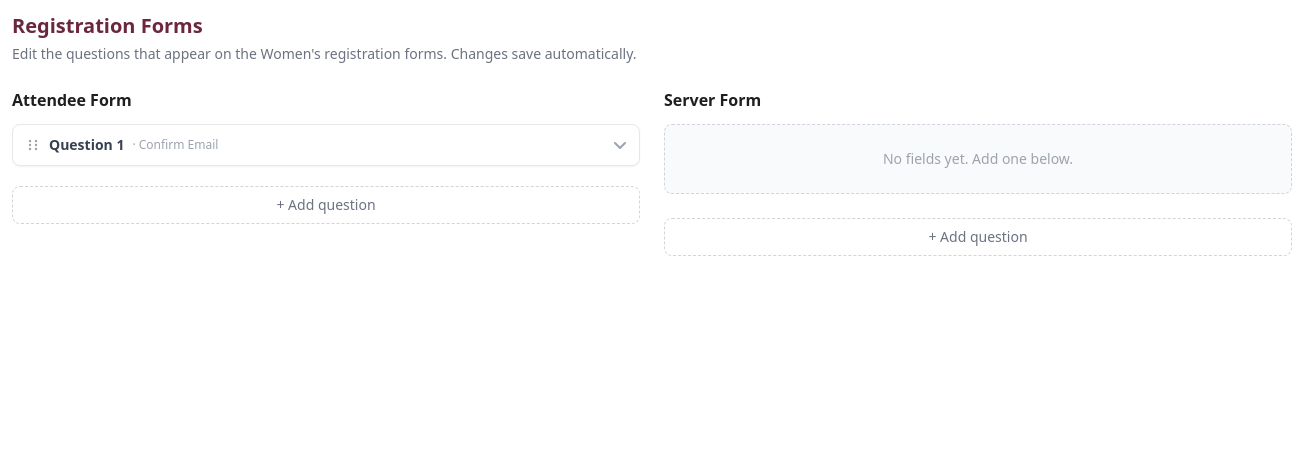
Test: FormsEditor page › shows an email_confirm note for that field when expanded
Expected: the text "Question 1" is shown, [49,135,124,155]
Click the button with aria-label "question 1 expand" at (87, 144), box [25,135,627,154]
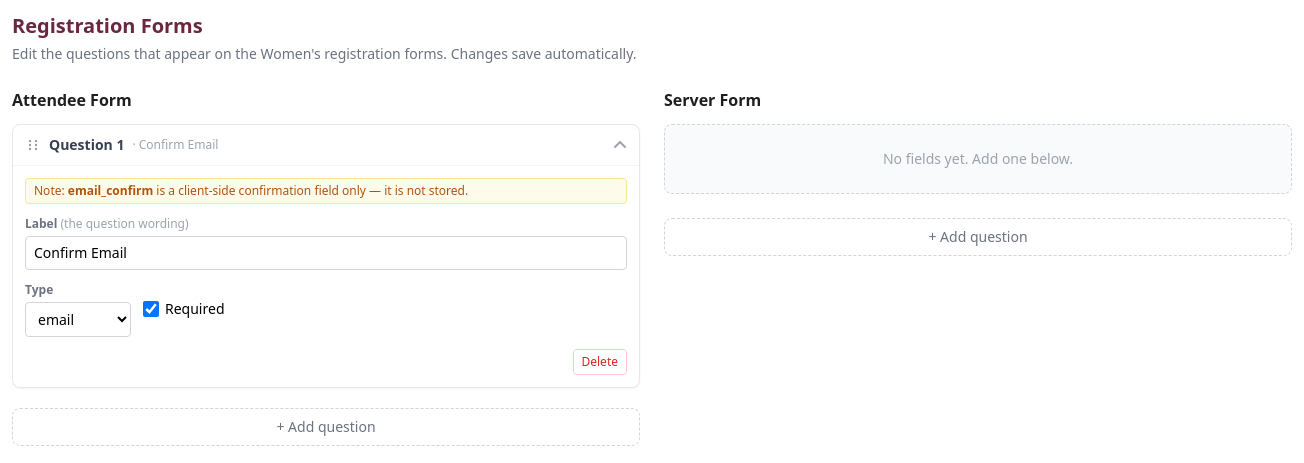
Result: the text "client-side confirmation field" is shown at [153,182,468,199]
